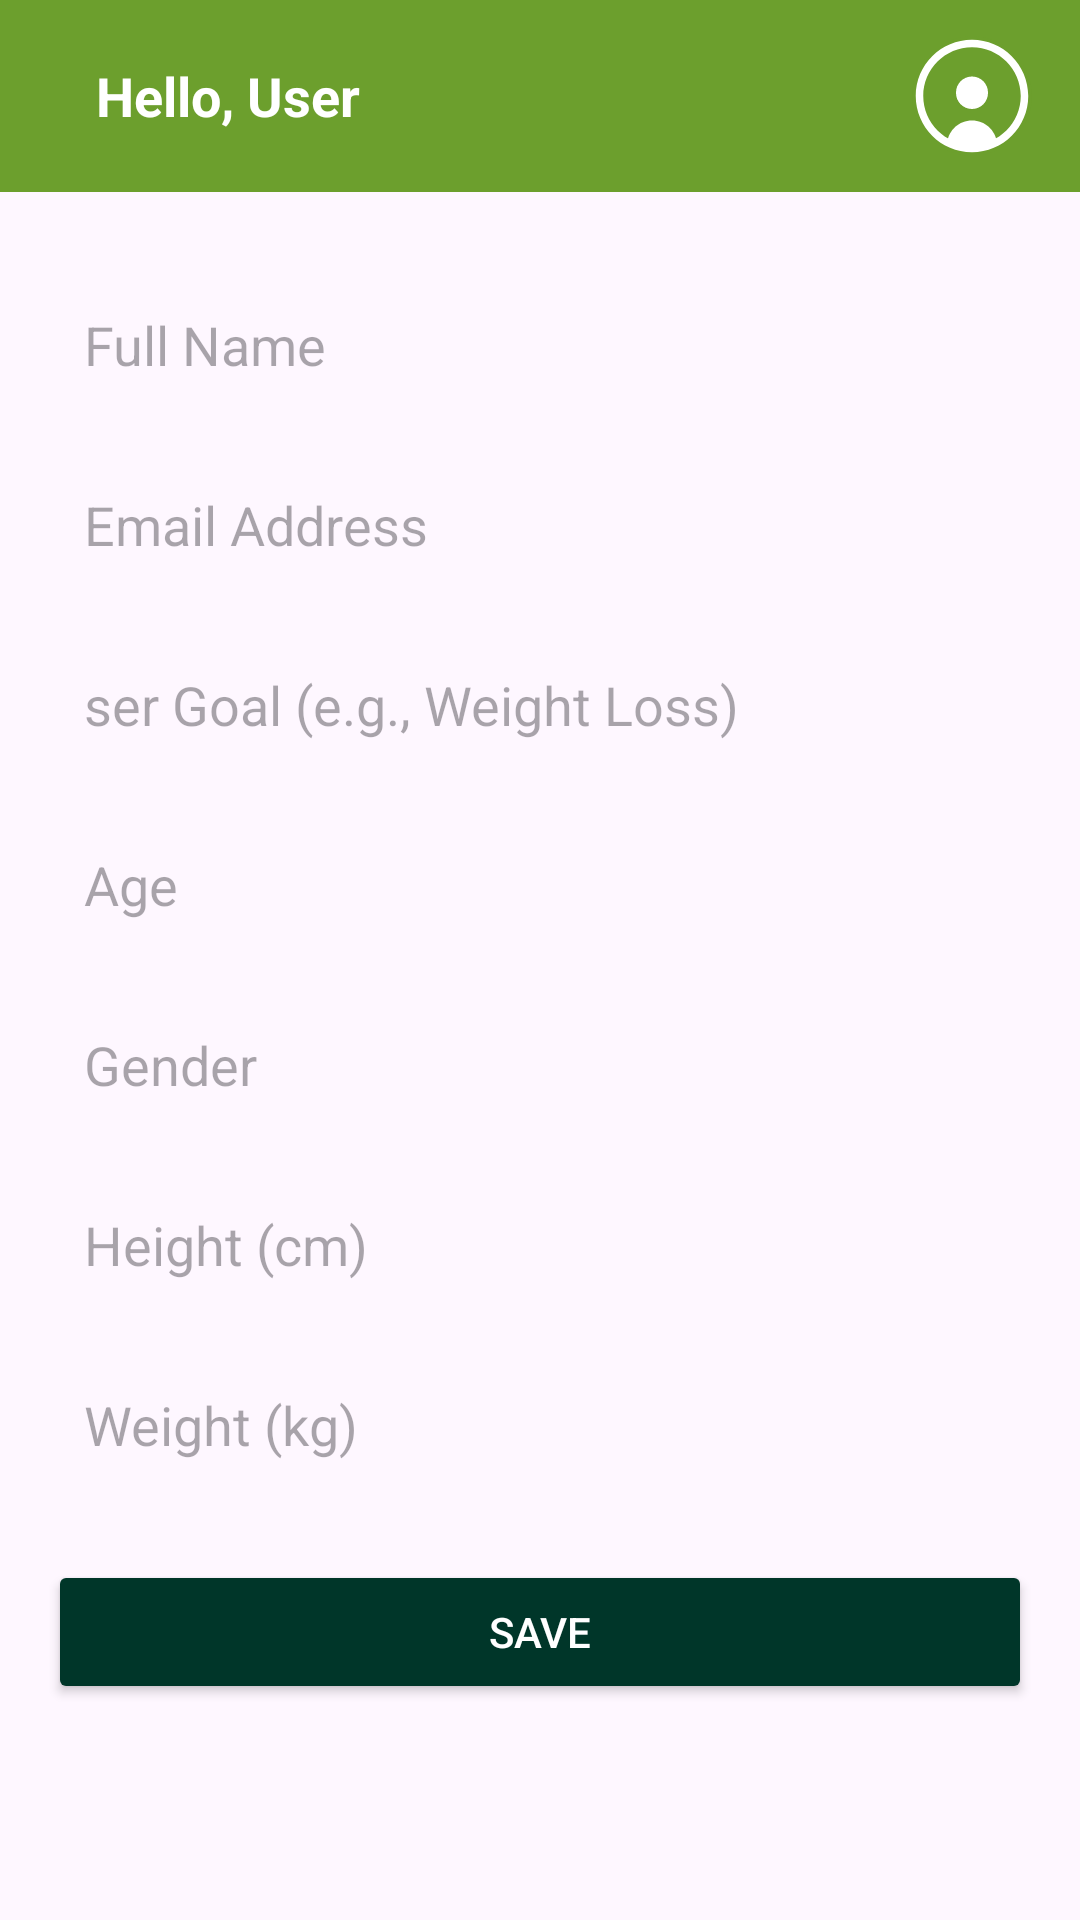

Screen size 1080×1920. Icon name, then its center in pixels as point (x, y):
Profile: point (972, 96)
